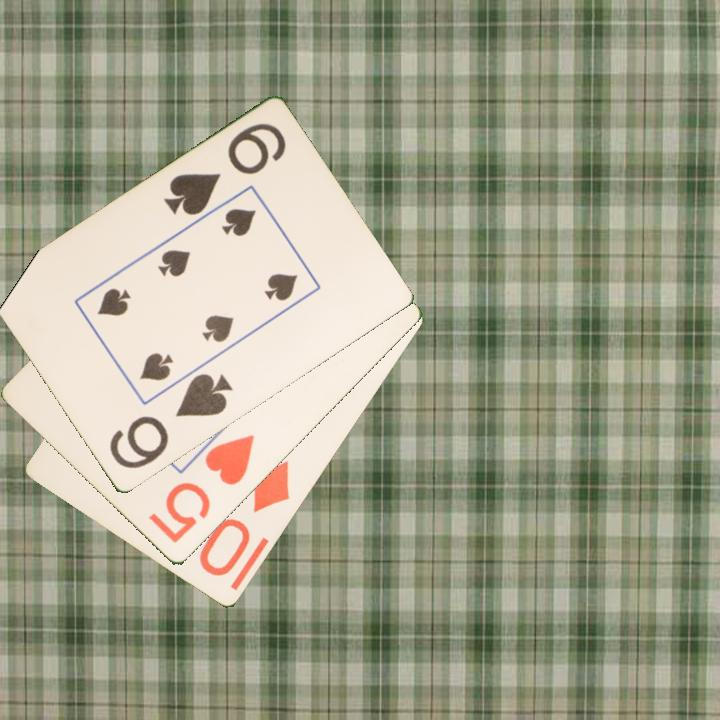10d: (195, 458, 294, 580)
5h: (144, 431, 258, 547)
6s: (105, 370, 236, 473), (159, 120, 289, 219)
